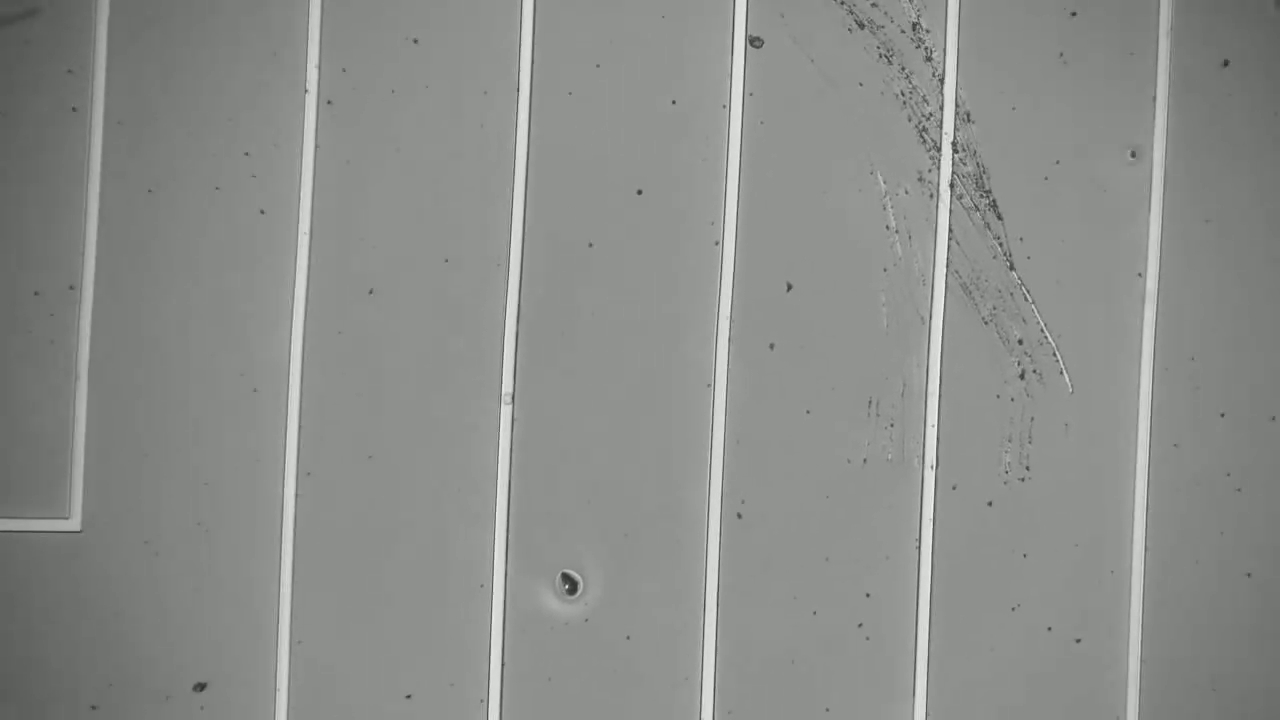scratch: (839, 4, 1090, 395)
